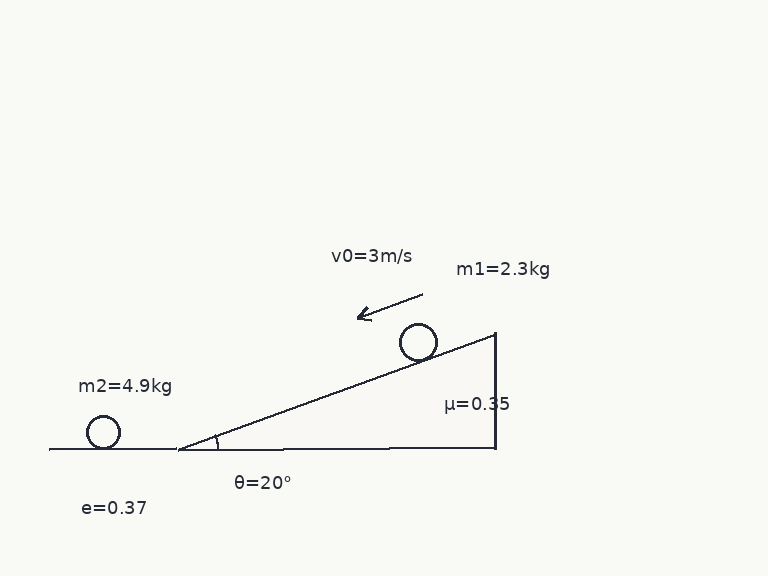ball: (397, 321, 439, 363), (84, 413, 122, 451)
ramp: (176, 332, 496, 451)
